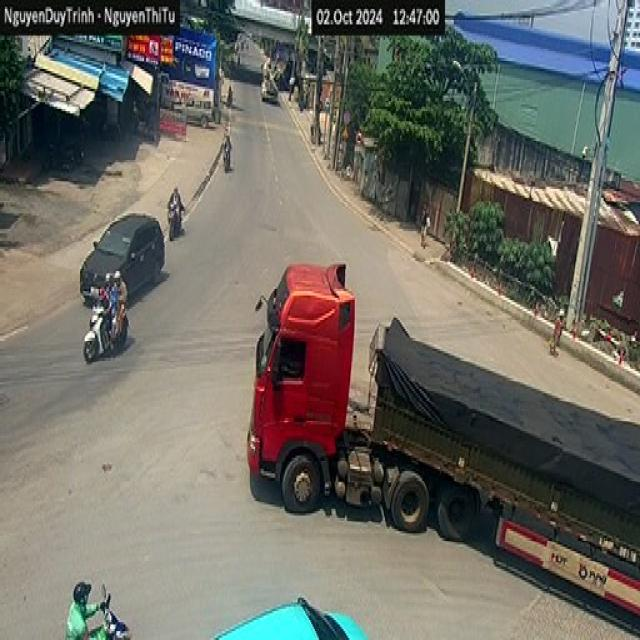car: (78, 211, 164, 307), (211, 589, 367, 640)
container-truck: (246, 256, 639, 631)
motorcycle: (81, 284, 129, 362), (86, 582, 130, 638), (218, 143, 237, 184), (166, 206, 185, 233)
person: (65, 580, 106, 638), (97, 254, 115, 321), (114, 254, 128, 320), (168, 184, 184, 238), (550, 297, 564, 356), (222, 126, 238, 162), (419, 204, 430, 247)
